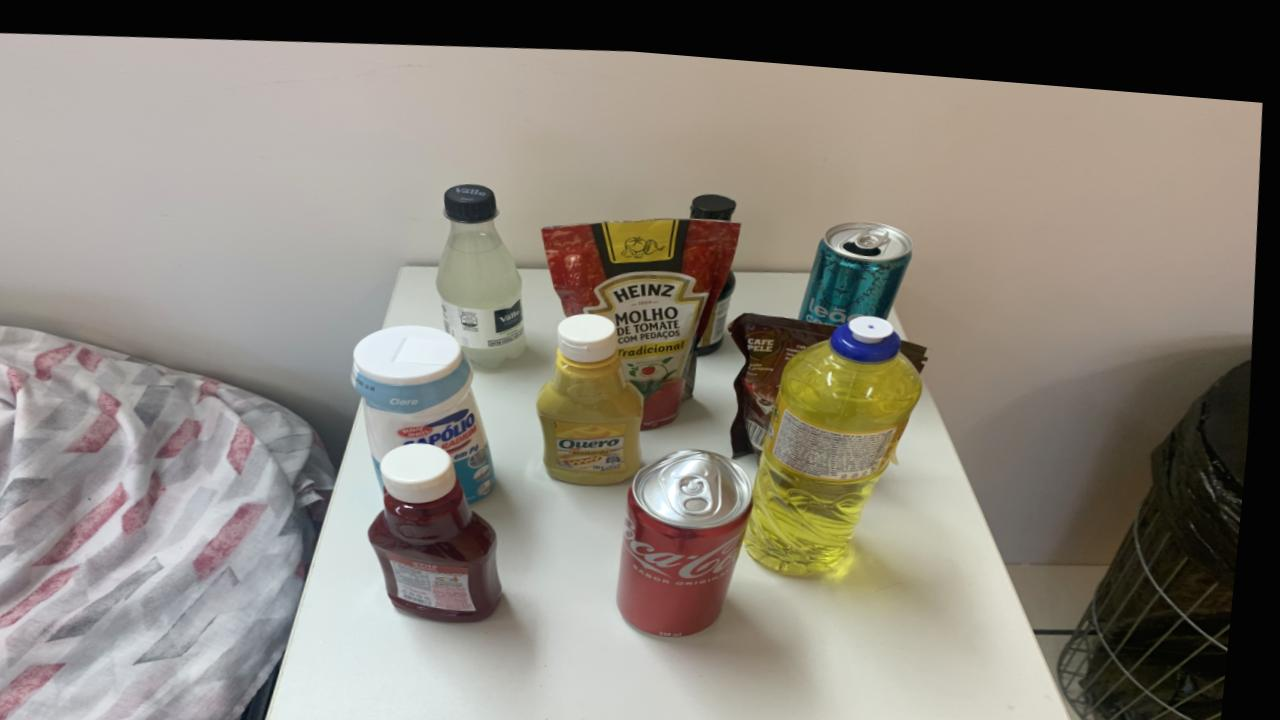Cleaner-Cleanup_Items: (358, 318, 503, 493)
Coffee-Pantry_Items: (733, 299, 840, 444), (908, 326, 933, 356)
Coke-Drinks: (628, 438, 761, 624)
Detergent-Cleanup_Items: (755, 301, 927, 559)
English_Sauce-Pantry_Items: (702, 258, 739, 344), (692, 182, 738, 209)
Ketchup-Pantry_Items: (379, 436, 513, 614)
Mustard-Pantry_Items: (543, 303, 650, 474)
Soda-Drinks: (440, 176, 532, 360)
Tea-Drinks: (803, 207, 915, 310)
Tomato_Sauce-Pantry_Items: (544, 207, 742, 418)
